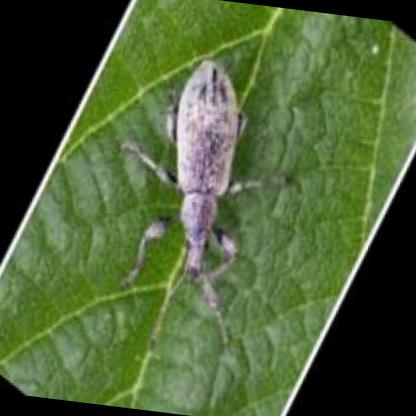ash weevil: (129, 62, 240, 280)
